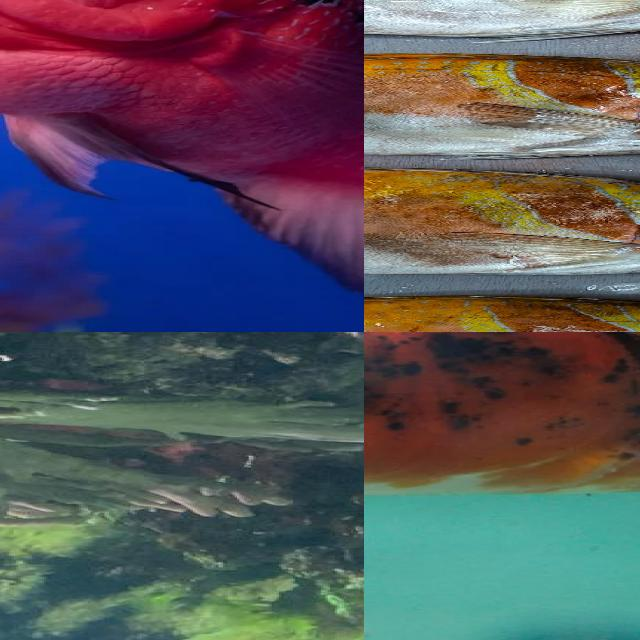fish: (0, 0, 364, 332), (364, 332, 640, 502)
